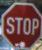Stop sign: (0, 0, 41, 49)
